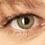eye: (18, 16, 34, 29)
